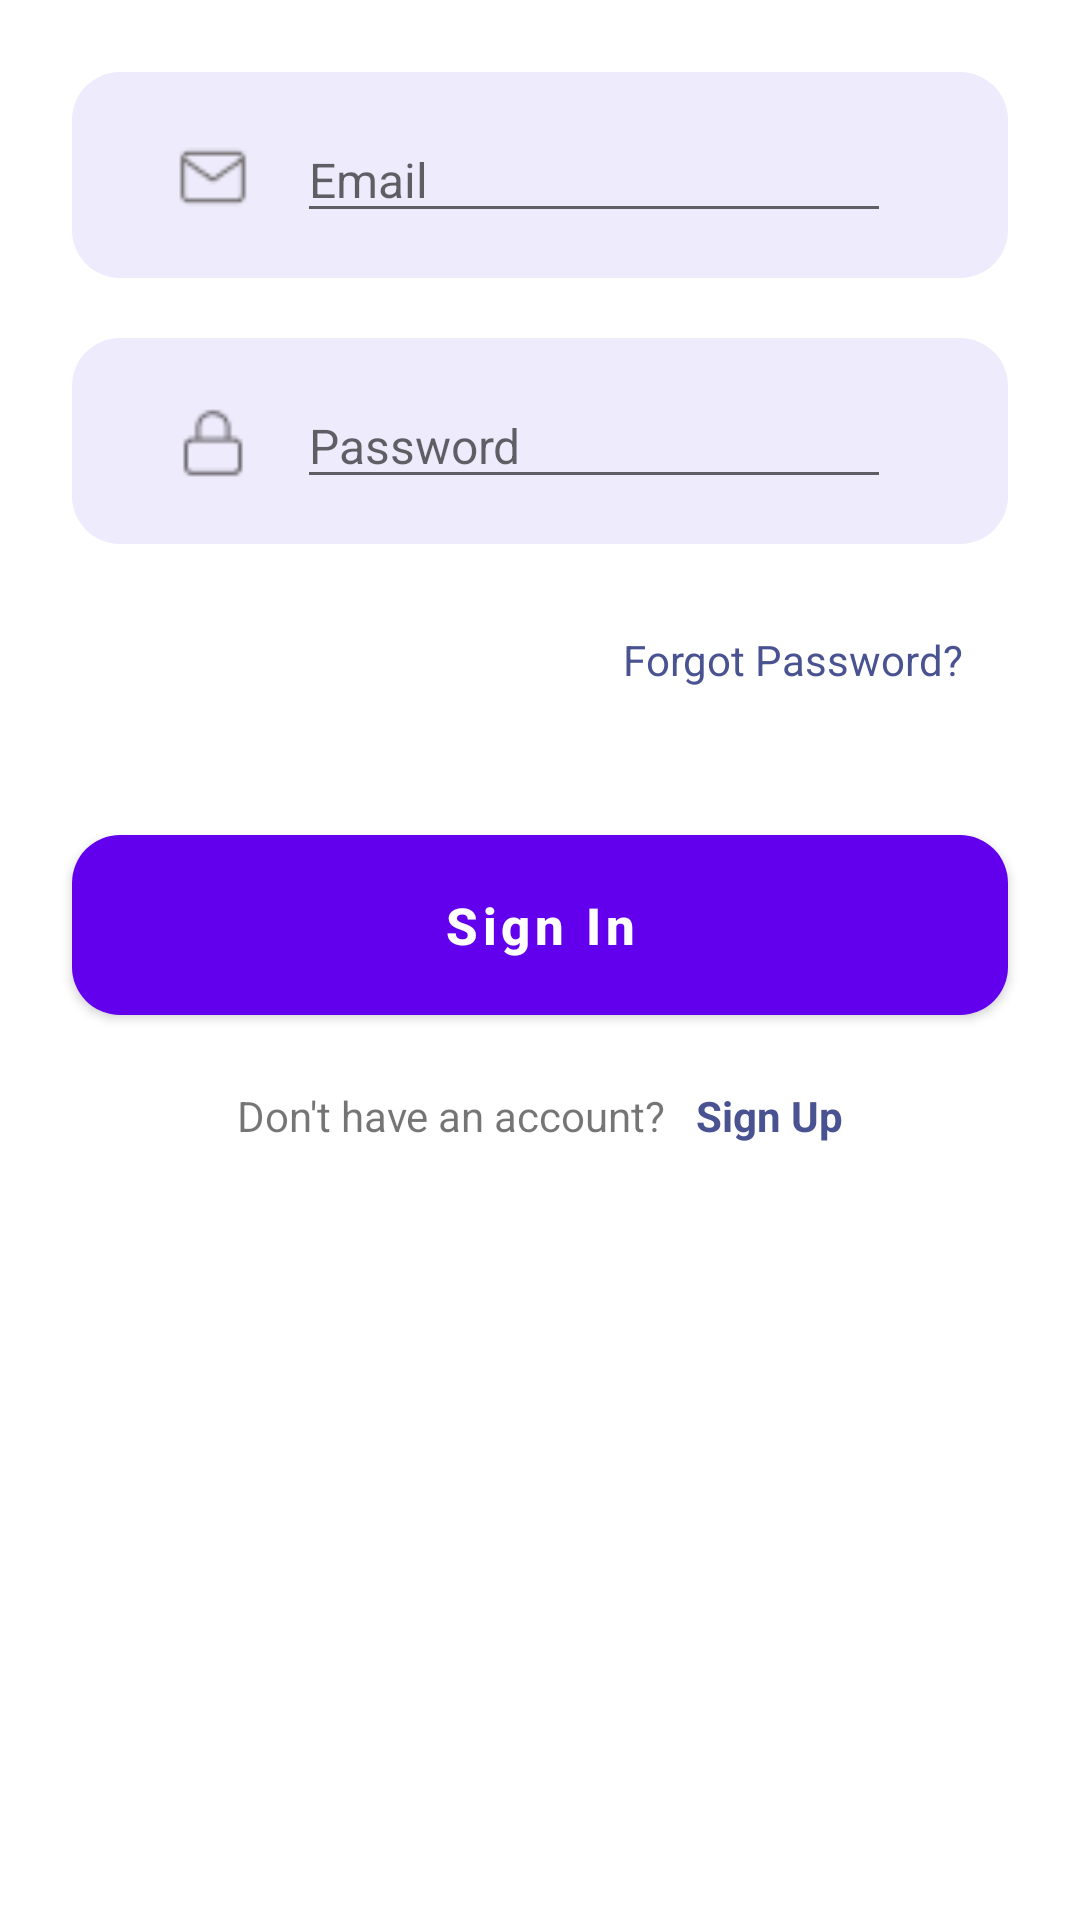

Locate icon controls on the screen. Image size 1080px x 1920px, boxes as region(x1, y1, x2, y2).
lock: region(183, 410, 243, 477)
